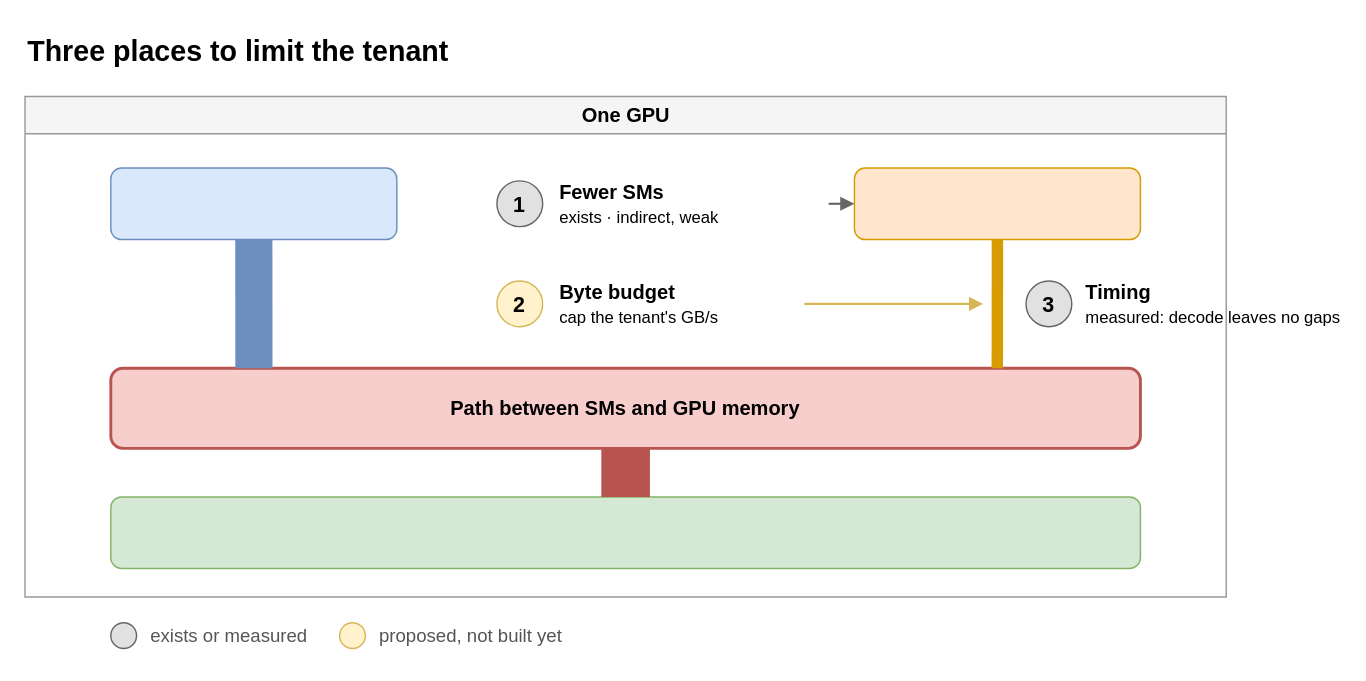
The diagram is 1366 pixels wide and 681 high, and some of its shapes have lost their labels. The centre of each missing label's shape, as x and y in pixels:
"Decode's SMs" goes at [253,203].
"GPU memory" goes at [624,531].
"Tenant's SMs" goes at [996,203].
